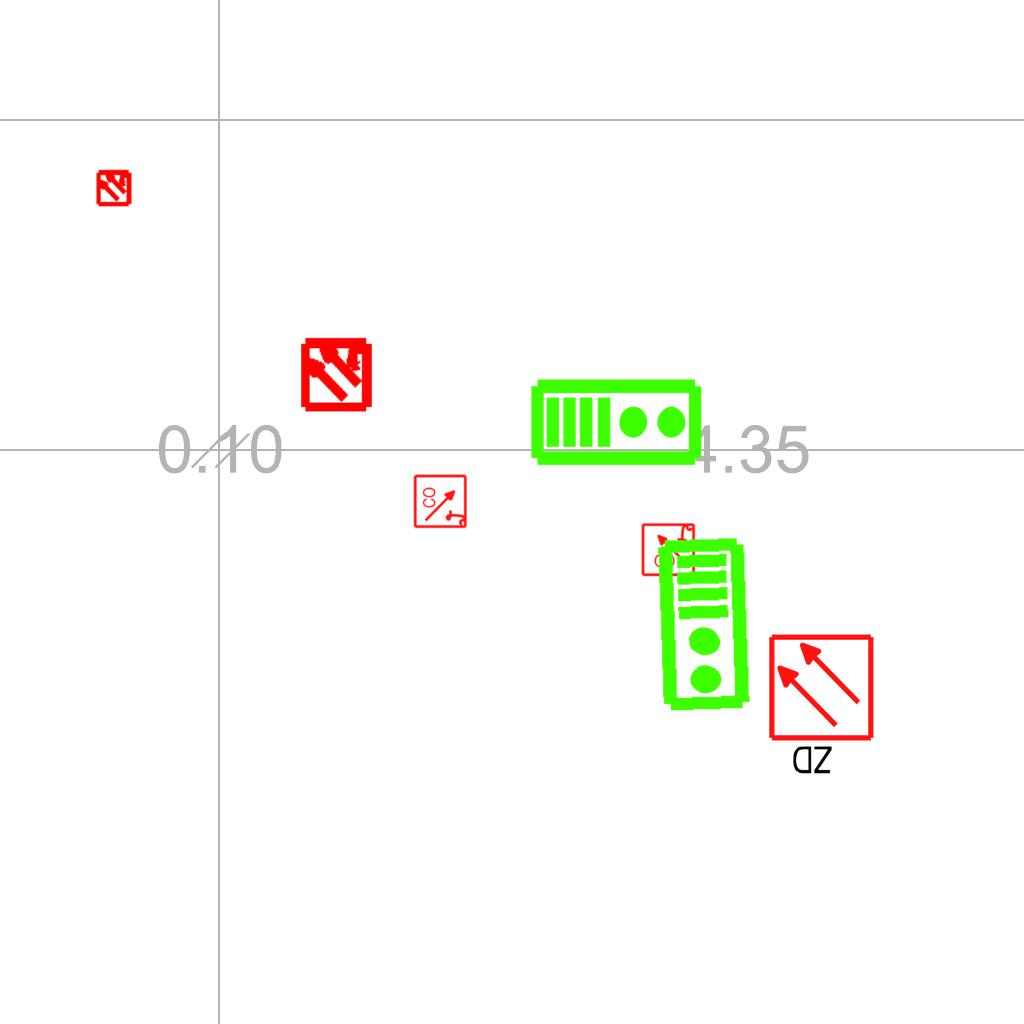Gegensprechanlage_mit_Video: (654, 535, 757, 715), (529, 373, 705, 468)
OT_Multisensormelder_(Kombination_RMO_WMD): (280, 316, 393, 429), (86, 159, 142, 215)
ROA_Rauchmelder_optisch_mit_Signalgeber_(Sockelsirene): (413, 473, 469, 529), (640, 521, 696, 577)
ZD_Melder_in_Zwischendecke_mit_Revisionsoeffnung_mind_40_x_40_cm: (766, 632, 880, 781)
